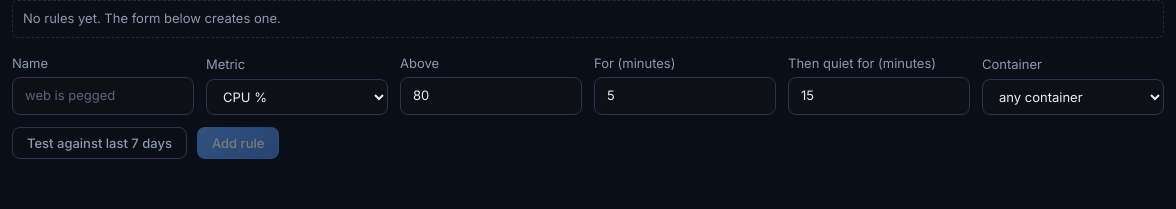
it: AlertRuleEditor › says when there is no history to test against, rather than showing zero
This screenshot has width=1176, height=209.
Click the button "Test against last 7 days" at (100, 143), box x1=12 y1=126 x2=187 y2=159
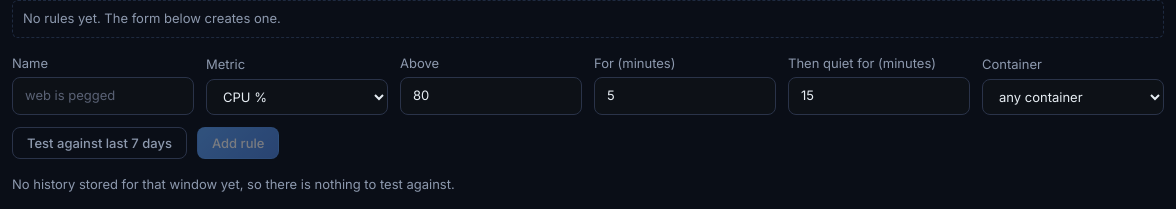
Result: the text "No history stored for that window" is shown at x1=12 y1=176 x2=455 y2=192
